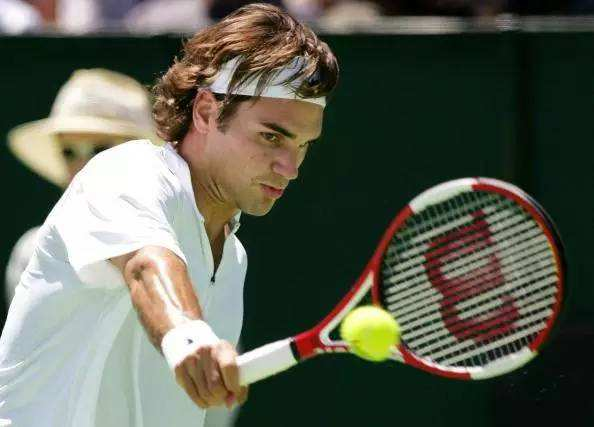no-phone: (151, 317, 285, 411)
